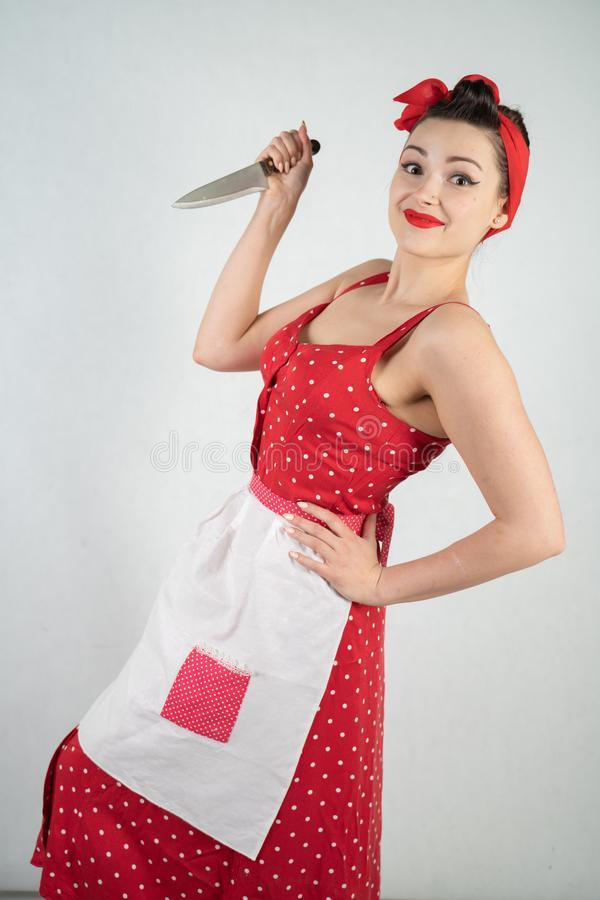criminal: (27, 72, 568, 900)
weapon: (167, 130, 330, 217)
